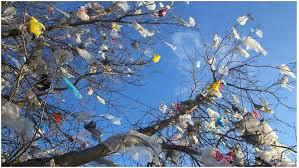Plastic: (102, 130, 164, 167), (0, 100, 36, 142), (242, 114, 279, 144), (59, 74, 85, 107), (237, 36, 270, 58), (131, 19, 165, 39), (171, 11, 198, 29), (26, 19, 48, 41), (274, 75, 298, 93), (99, 115, 125, 129), (179, 113, 197, 131), (278, 61, 295, 78), (150, 53, 163, 66), (235, 15, 250, 25), (95, 95, 107, 107), (212, 33, 221, 45)
